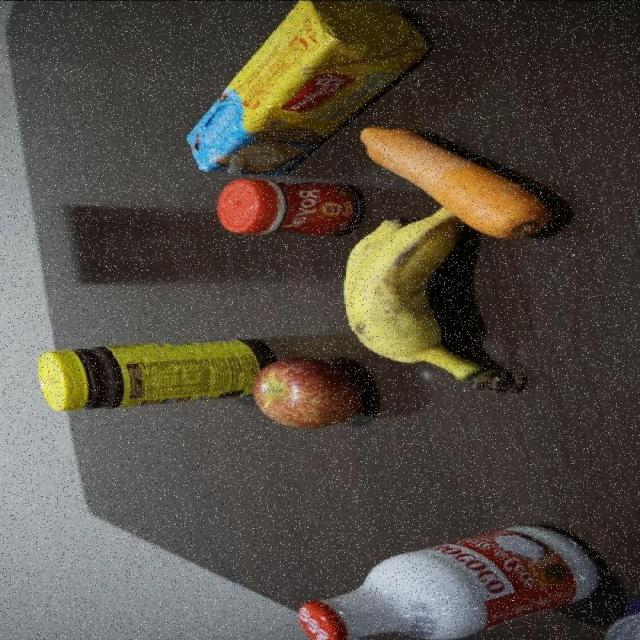Apple: (250, 354, 359, 436)
Banana: (346, 224, 529, 393)
Carrot: (353, 121, 548, 207)
ChocolatePowder: (35, 346, 242, 411)
CoconutMilk: (278, 521, 594, 640)
Cracker: (182, 0, 351, 177)
Yeast: (220, 176, 358, 242)
